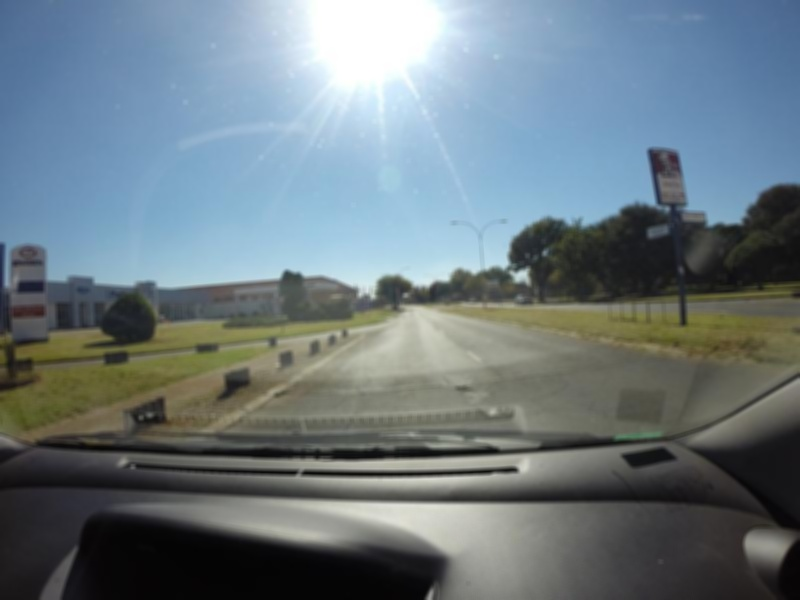pothole: (450, 377, 483, 396), (268, 382, 296, 401)
